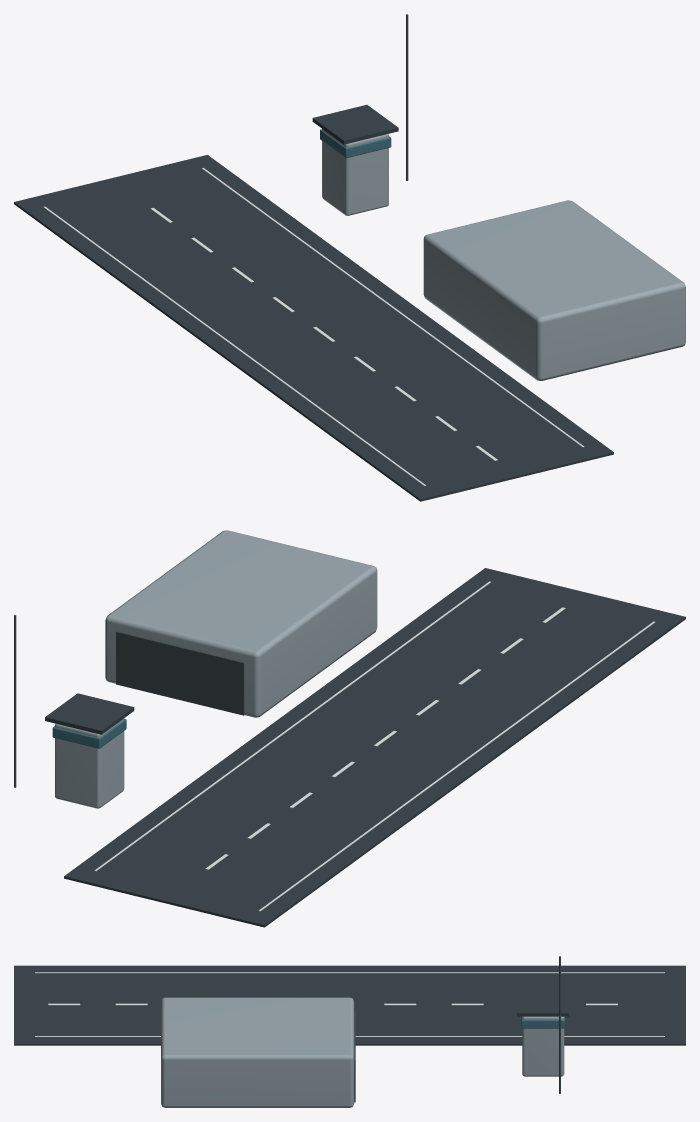
The model's file is generic-ww2-airfield.glb.
3 views of the same model, one above another, from view 1: azimuth 30°, elevation 25°; view 2: azimuth 150°, elevation 25°; view 3: azimuth 270°, elevation 25° (orthographic). The views are drawn at different scales.
Parts seen in each view (by area): view 1: ww2-airfield_Airstrip, ww2-airfield_Hangar, ww2-airfield_ControlTower, ww2-airfield_TowerRoof, ww2-airfield_RunwayEdge, ww2-airfield_RunwayEdge.001, ww2-airfield_TowerWindows; view 2: ww2-airfield_Airstrip, ww2-airfield_Hangar, ww2-airfield_HangarDoor, ww2-airfield_ControlTower, ww2-airfield_TowerRoof, ww2-airfield_RunwayEdge, ww2-airfield_RunwayEdge.001, ww2-airfield_TowerWindows; view 3: ww2-airfield_Airstrip, ww2-airfield_Hangar, ww2-airfield_ControlTower, ww2-airfield_TowerRoof, ww2-airfield_RunwayEdge, ww2-airfield_RunwayEdge.001, ww2-airfield_TowerWindows, ww2-airfield_RadioMast.
Boxes of the visible parts, <box> form: ww2-airfield_Airstrip: <box>14,155,613,501</box>; ww2-airfield_Hangar: <box>423,200,685,380</box>; ww2-airfield_ControlTower: <box>322,129,388,215</box>; ww2-airfield_TowerRoof: <box>312,104,398,144</box>; ww2-airfield_RunwayEdge: <box>43,206,425,485</box>; ww2-airfield_RunwayEdge.001: <box>202,168,584,447</box>; ww2-airfield_TowerWindows: <box>320,129,391,158</box>; ww2-airfield_Airstrip: <box>64,568,685,927</box>; ww2-airfield_Hangar: <box>105,530,377,717</box>; ww2-airfield_HangarDoor: <box>116,631,244,715</box>; ww2-airfield_ControlTower: <box>55,718,124,808</box>; ww2-airfield_TowerRoof: <box>45,693,134,734</box>; ww2-airfield_RunwayEdge: <box>258,621,655,911</box>; ww2-airfield_RunwayEdge.001: <box>94,581,490,871</box>; ww2-airfield_TowerWindows: <box>52,718,126,748</box>; ww2-airfield_Airstrip: <box>14,965,685,1045</box>; ww2-airfield_Hangar: <box>161,997,354,1107</box>; ww2-airfield_ControlTower: <box>522,1016,564,1076</box>; ww2-airfield_TowerRoof: <box>517,991,569,1016</box>; ww2-airfield_RunwayEdge: <box>35,972,664,973</box>; ww2-airfield_RunwayEdge.001: <box>35,1036,664,1036</box>; ww2-airfield_TowerWindows: <box>521,1016,564,1028</box>; ww2-airfield_RadioMast: <box>559,956,560,1093</box>.
Bounding box in the file's own units: 40.5 × 18.24 × 80.
